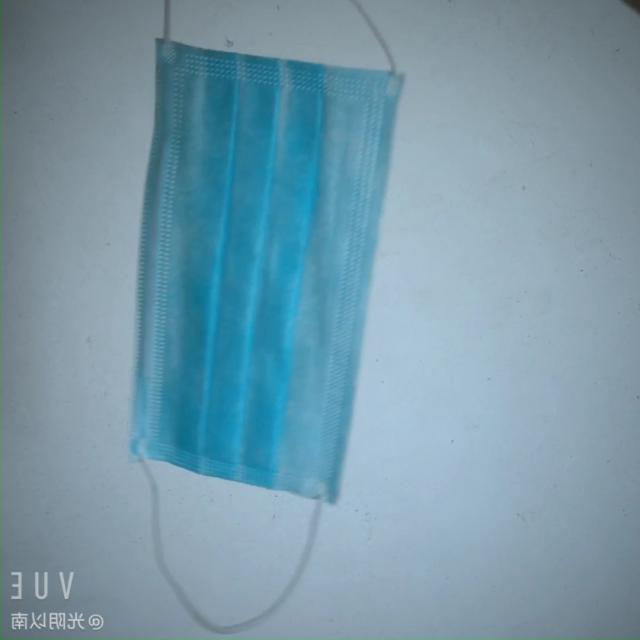face mask: (132, 36, 398, 508)
